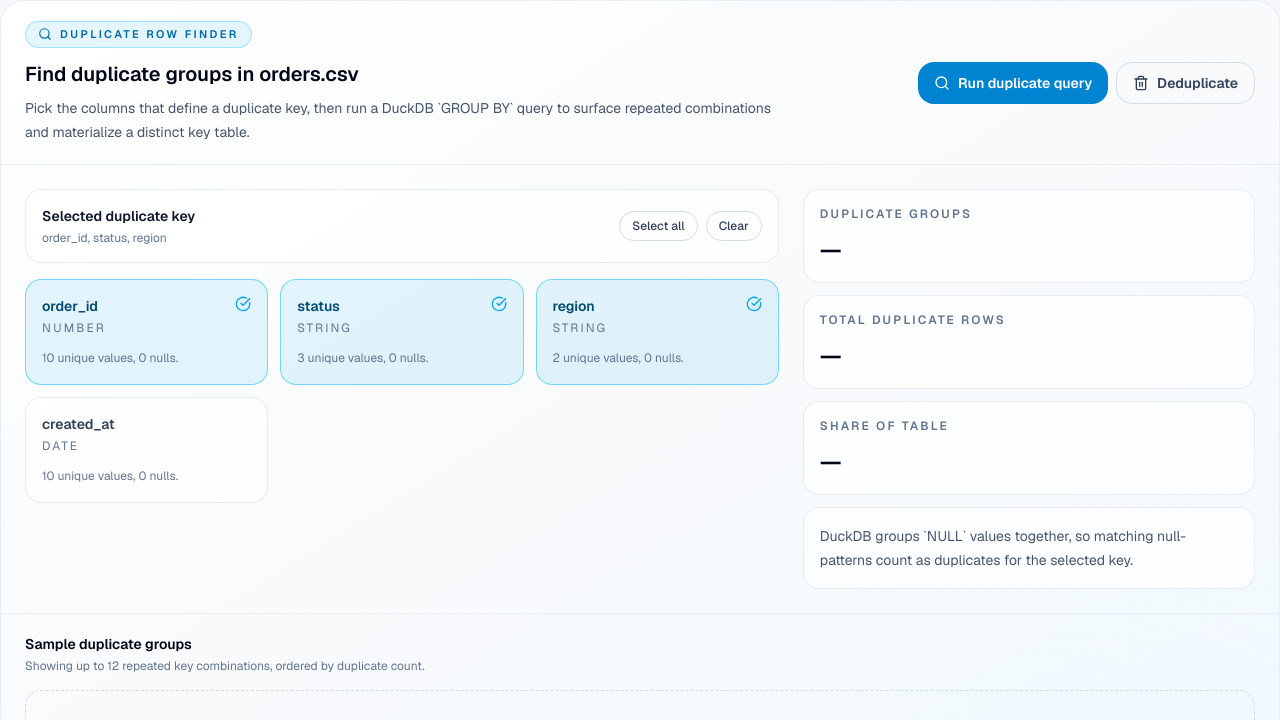
Test: DuplicateFinder › creates a deduplicated table and exposes its generated name for copying
This screenshot has width=1280, height=720.
Click the button "Deduplicate" at (1186, 83), box [1116,62,1255,104]
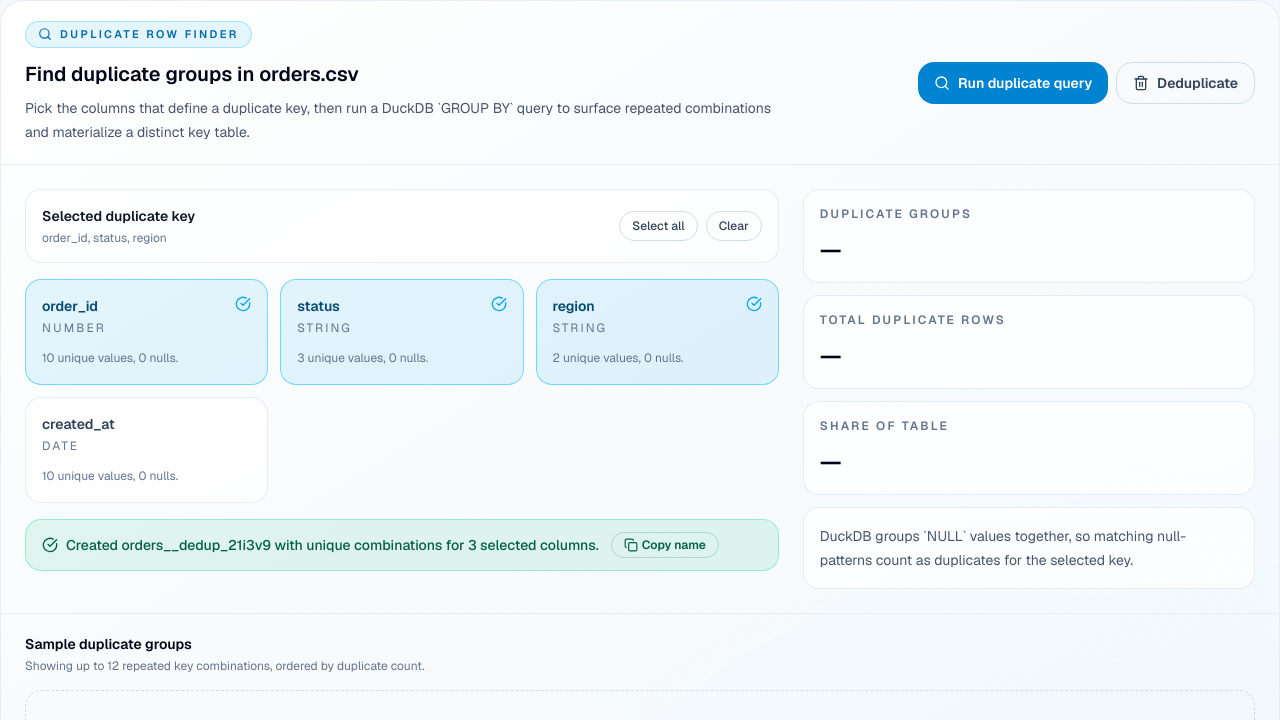
Result: the text "Created orders__dedup_" is shown at [66,536,599,554]
Result: the button "Copy name" is shown at [611,532,719,558]
